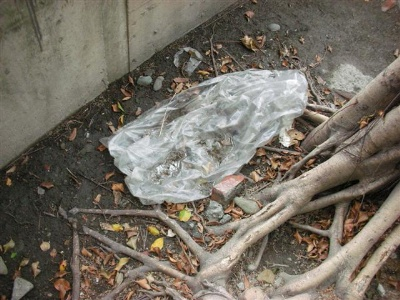plastic_bag: (113, 71, 309, 200)
